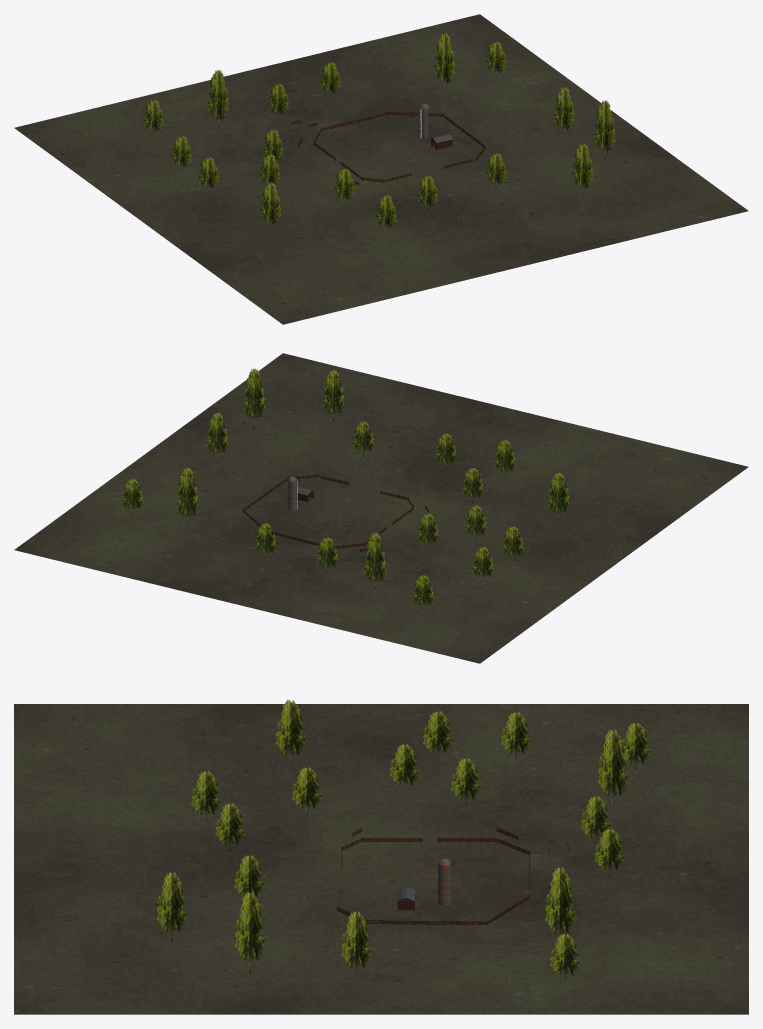
File: Cenario_ideia (1).glb
The picture shows the model from 3 angles, top to bottom: view 1: azimuth 30°, elevation 25°; view 2: azimuth 150°, elevation 25°; view 3: azimuth 270°, elevation 25°; orthographic projection. The views are drawn at different scales.
Visible parts, largest first — view 1: chao-col, arvore.003, arvore.012, arvore.015, arvore.017, arvore.016, arvore.014, arvore.001; view 2: chao-col, arvore.003, arvore.012, arvore.015, arvore.017, arvore.016, arvore.014, arvore.001, arvore.004, arvore.005; view 3: chao-col, arvore.003, arvore.012, arvore.015, arvore.017, arvore.014, arvore.016, arvore.001, arvore.011, arvore.002, arvore.010, arvore.013 (+8 smaller).
Part boxes in pixels (left/top/right/bottom): chao-col: left=14, top=14, right=748, bottom=324; arvore.003: left=594, top=100, right=615, bottom=159; arvore.012: left=207, top=69, right=228, bottom=126; arvore.015: left=434, top=33, right=455, bottom=90; arvore.017: left=572, top=143, right=593, bottom=194; arvore.016: left=553, top=87, right=574, bottom=133; arvore.014: left=260, top=182, right=281, bottom=228; arvore.001: left=376, top=195, right=396, bottom=230; chao-col: left=14, top=353, right=748, bottom=663; arvore.003: left=243, top=368, right=264, bottom=428; arvore.012: left=364, top=532, right=385, bottom=589; arvore.015: left=176, top=467, right=197, bottom=524; arvore.017: left=322, top=370, right=343, bottom=421; arvore.016: left=206, top=412, right=227, bottom=459; arvore.014: left=547, top=472, right=569, bottom=519; arvore.001: left=493, top=440, right=515, bottom=475; arvore.004: left=412, top=575, right=433, bottom=609; arvore.005: left=435, top=433, right=456, bottom=468; chao-col: left=14, top=704, right=748, bottom=1014; arvore.003: left=235, top=891, right=265, bottom=973; arvore.012: left=598, top=729, right=628, bottom=806; arvore.015: left=545, top=866, right=575, bottom=936; arvore.017: left=156, top=871, right=187, bottom=942; arvore.014: left=275, top=699, right=305, bottom=763; arvore.016: left=341, top=911, right=371, bottom=974; arvore.001: left=191, top=770, right=221, bottom=819; arvore.011: left=451, top=758, right=481, bottom=805; arvore.002: left=292, top=767, right=322, bottom=814; arvore.010: left=389, top=743, right=419, bottom=790; arvore.013: left=501, top=712, right=531, bottom=758.
Size of the model in its own units: 420 by 55.37 by 420.
Materials: 82 (75 with a texture image).
